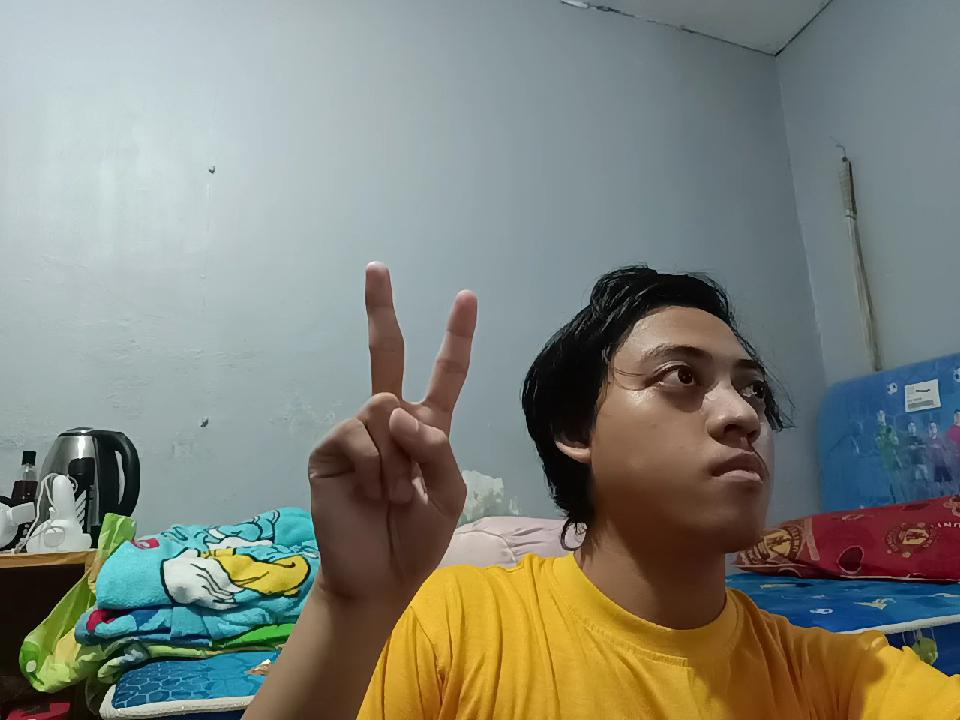scissors: (316, 244, 482, 608)
